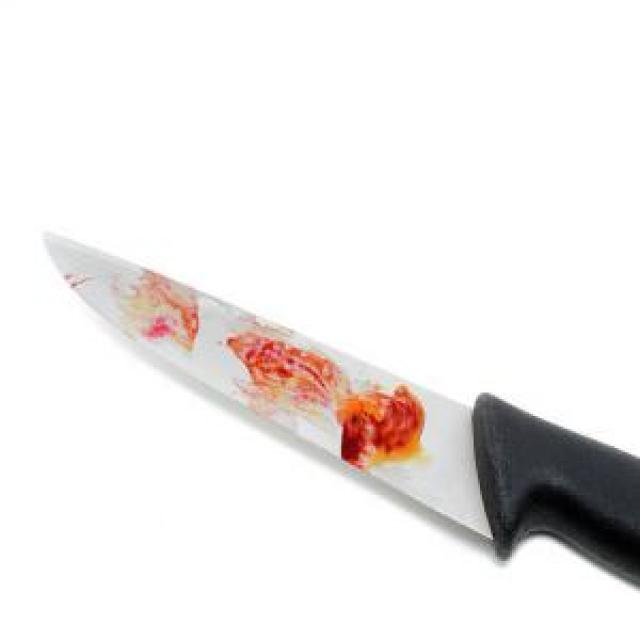knife: (23, 201, 638, 595)
